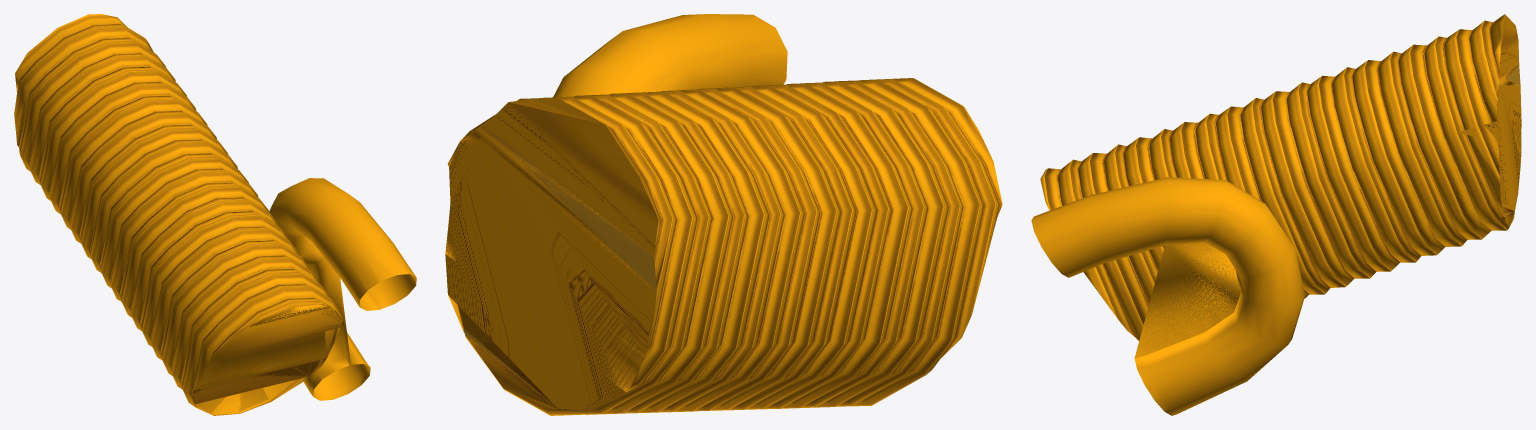
The model's file is Tatarapang_terpotong3.fbx.
3 renders of one model, left to right at view 1: azimuth 30°, elevation 25°; view 2: azimuth 150°, elevation 25°; view 3: azimuth 270°, elevation 25°, orthographic. The views are drawn at different scales.
Visible parts, largest first — view 1: sarung2a-lp.001_Material-Sarung1.001_0; view 2: sarung2a-lp.001_Material-Sarung1.001_0; view 3: sarung2a-lp.001_Material-Sarung1.001_0.
Boxes of the visible parts, x1,y1,x2,y2 form: sarung2a-lp.001_Material-Sarung1.001_0: (14,14,416,415); sarung2a-lp.001_Material-Sarung1.001_0: (445,14,1002,415); sarung2a-lp.001_Material-Sarung1.001_0: (1031,14,1521,415).
Bounding box in the file's own units: 13.92 × 20.66 × 27.25.
Materials: 2 (2 with a texture image).
